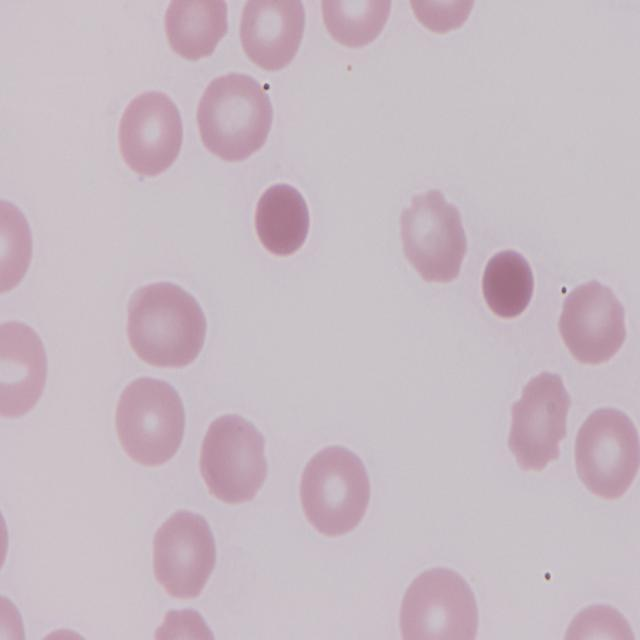RBC: (114, 371, 192, 471), (124, 280, 205, 374), (194, 73, 276, 165), (296, 443, 374, 539), (396, 187, 470, 287), (198, 411, 272, 507), (506, 368, 570, 476), (148, 506, 218, 602), (558, 278, 632, 368), (395, 564, 482, 640), (115, 88, 188, 178), (572, 406, 640, 502), (239, 2, 314, 78), (0, 320, 50, 425), (162, 1, 234, 68), (316, 1, 400, 54), (0, 191, 36, 303), (559, 601, 640, 640), (405, 0, 485, 34), (149, 605, 223, 640), (0, 582, 30, 640)
Spherocyte: (253, 182, 314, 258), (478, 244, 536, 322)
